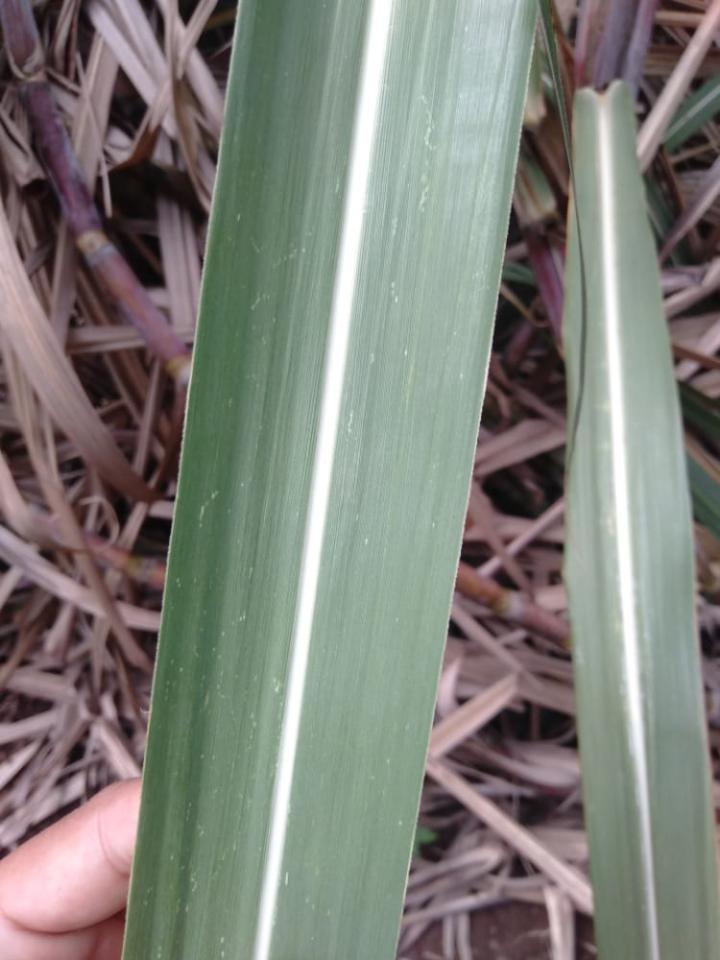Healthy: (123, 0, 540, 959), (561, 81, 719, 959)
